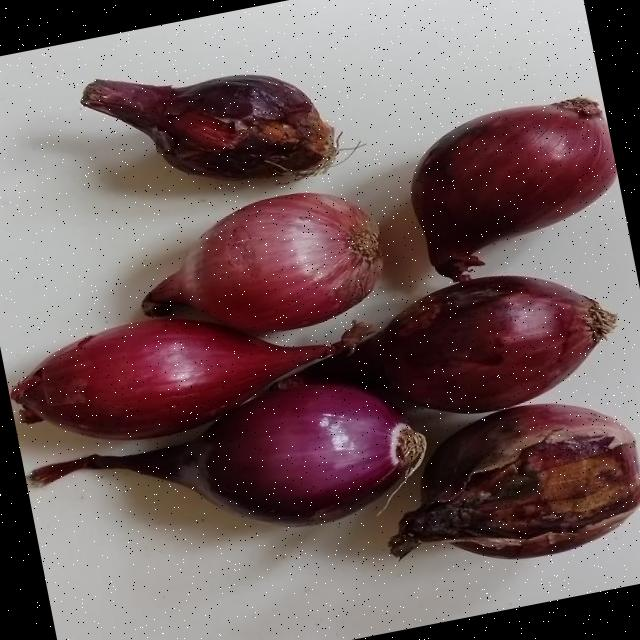Onion: (30, 386, 425, 528), (282, 276, 616, 414), (9, 320, 332, 441), (389, 406, 640, 561), (412, 97, 617, 282), (142, 194, 382, 335), (80, 76, 336, 181)
